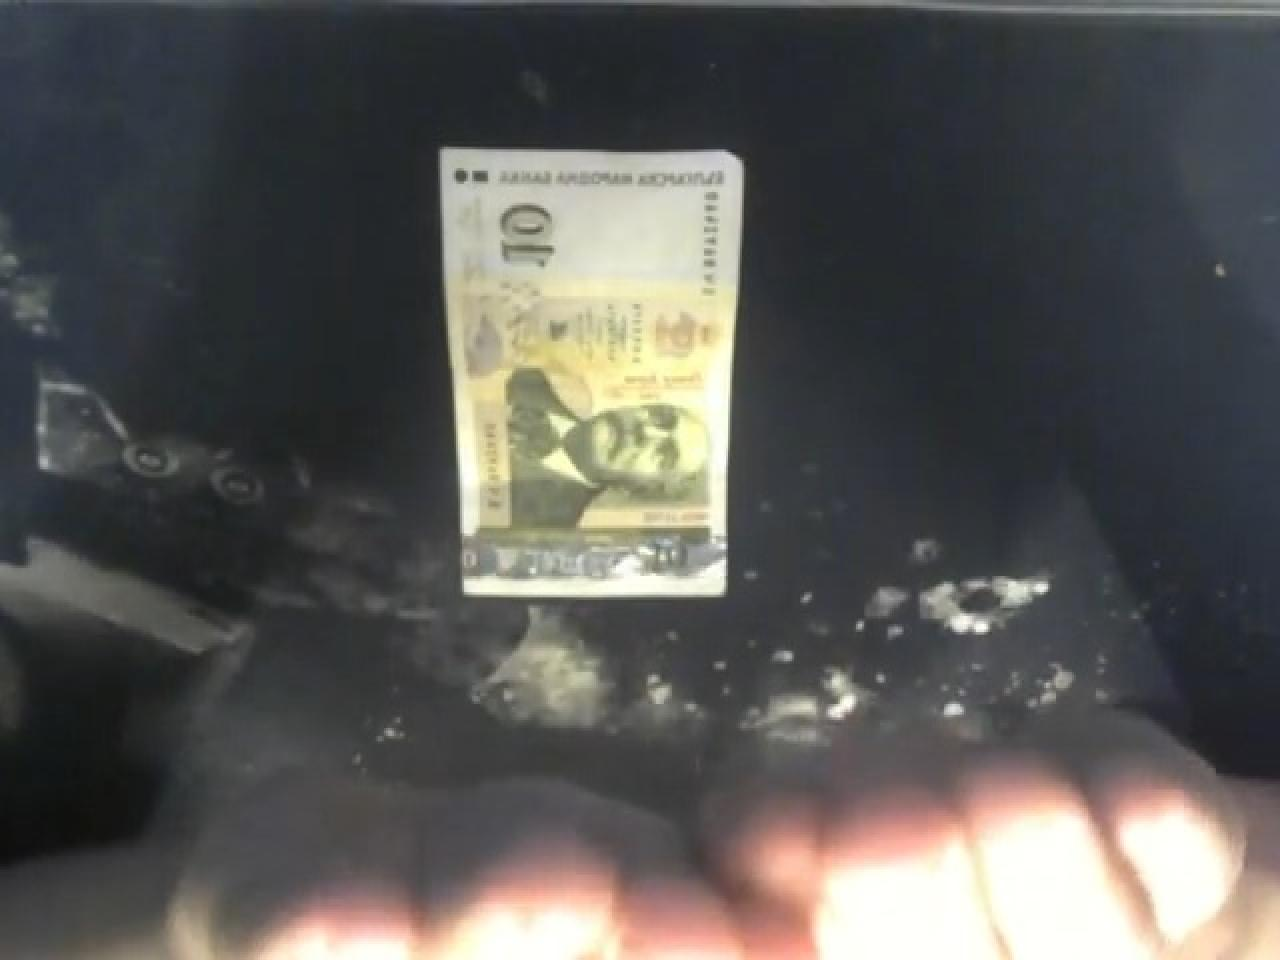10leva: (432, 139, 750, 600)
